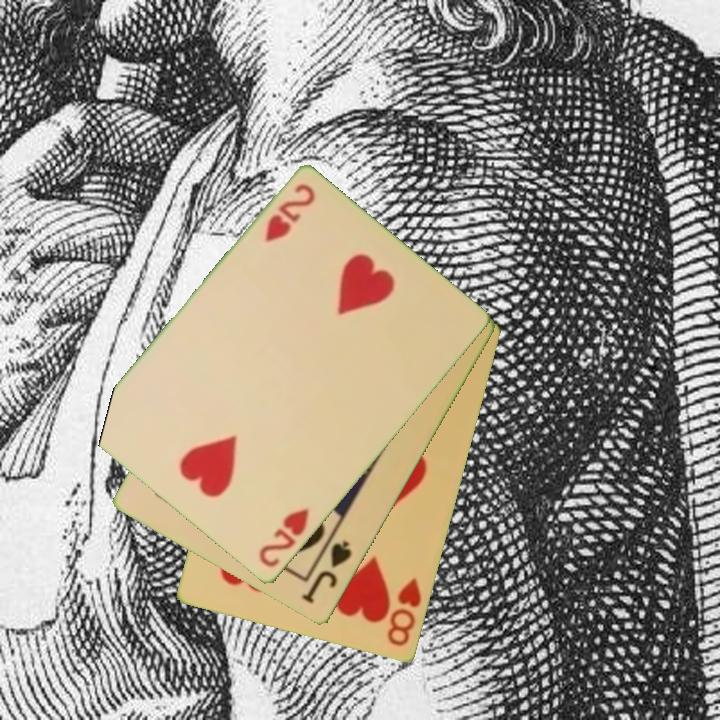2h: (255, 505, 312, 571), (261, 181, 318, 246)
8h: (384, 574, 425, 650)
Js: (298, 538, 355, 607)
